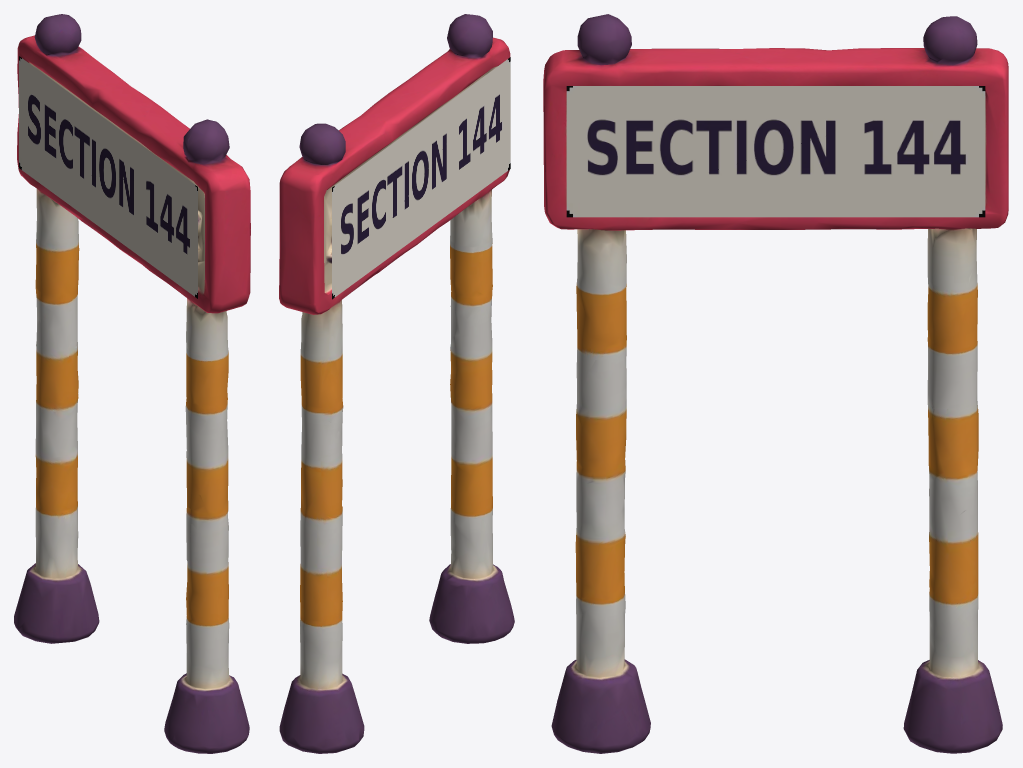
The model's file is obstacle-section-144.glb.
3 views of the same model, side by side, from view 1: azimuth 30°, elevation 25°; view 2: azimuth 150°, elevation 25°; view 3: azimuth 270°, elevation 25° (orthographic). The views are drawn at different scales.
Visible parts, largest first — view 1: tripo_node_5c356536-89fa-42c0-99a0-4f117ab6b4a5, SignTextFront; view 2: tripo_node_5c356536-89fa-42c0-99a0-4f117ab6b4a5, SignTextFront; view 3: tripo_node_5c356536-89fa-42c0-99a0-4f117ab6b4a5, SignTextFront.
Part boxes in pixels (x1,y1,x2,y2): tripo_node_5c356536-89fa-42c0-99a0-4f117ab6b4a5: (14, 14, 250, 753); SignTextFront: (19, 56, 197, 298); tripo_node_5c356536-89fa-42c0-99a0-4f117ab6b4a5: (279, 14, 514, 753); SignTextFront: (332, 57, 510, 299); tripo_node_5c356536-89fa-42c0-99a0-4f117ab6b4a5: (543, 14, 1008, 753); SignTextFront: (566, 86, 985, 217).
Bounding box in the file's own units: 0.1273 × 1 × 0.585.
2 materials, 2 textured.
